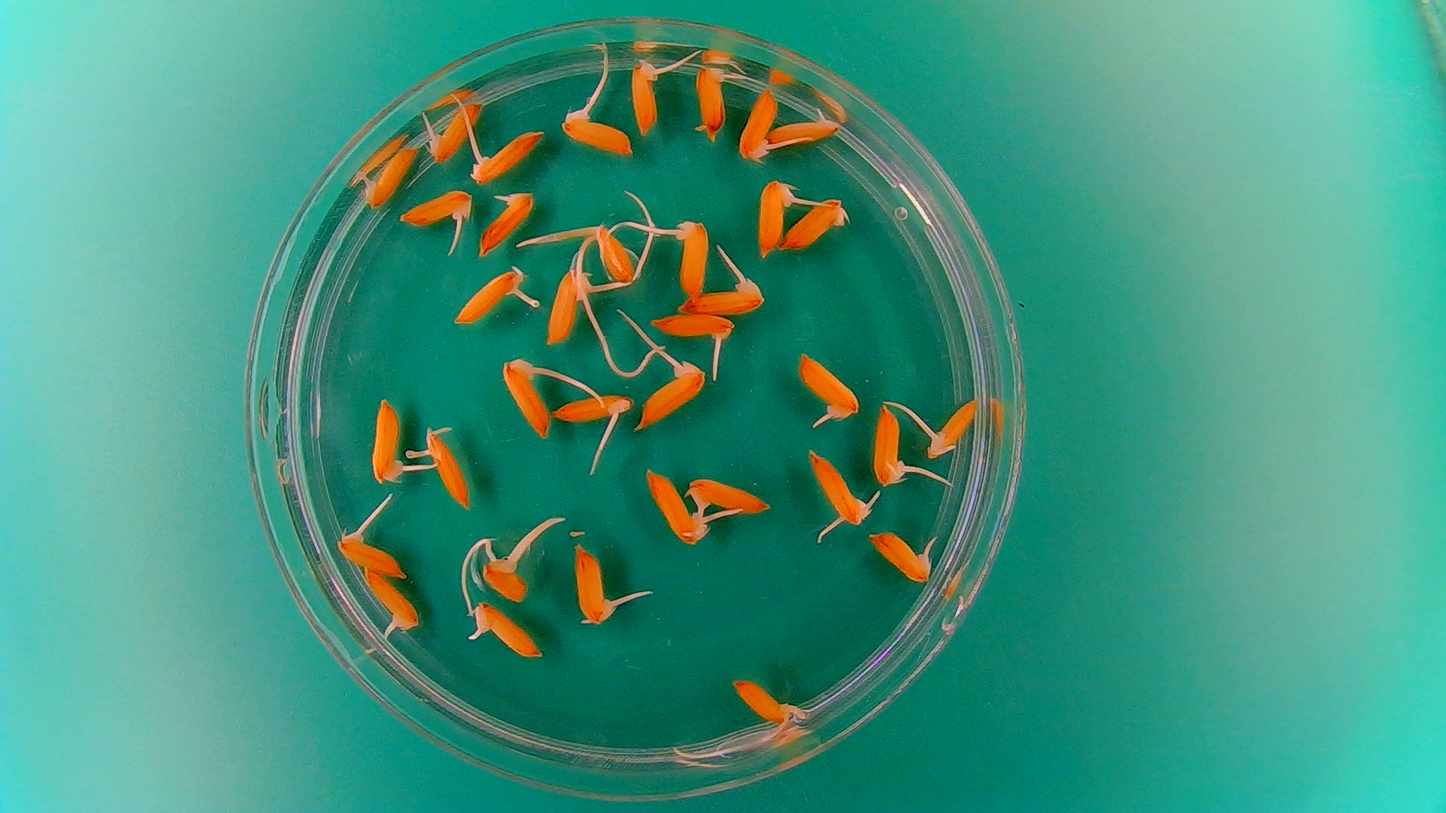no: (782, 196, 844, 254)
yes: (795, 349, 862, 428), (645, 469, 712, 547), (500, 354, 557, 440), (466, 127, 545, 185), (685, 477, 776, 525), (640, 363, 706, 428), (807, 457, 871, 524), (470, 601, 545, 658), (477, 187, 538, 257), (368, 394, 412, 486), (453, 268, 525, 324), (571, 539, 616, 628), (362, 140, 418, 211), (561, 104, 636, 157), (423, 98, 484, 163), (361, 570, 421, 636), (871, 400, 914, 488), (755, 177, 801, 259), (424, 432, 471, 512), (920, 395, 978, 459), (398, 187, 476, 234), (869, 525, 932, 583), (544, 267, 590, 343), (736, 87, 781, 160), (764, 106, 844, 147), (680, 279, 765, 317), (670, 221, 709, 302), (335, 531, 402, 577), (628, 60, 668, 137), (736, 681, 795, 729), (692, 67, 732, 137), (652, 310, 736, 343), (554, 393, 631, 429), (478, 550, 532, 601), (593, 222, 636, 286)
